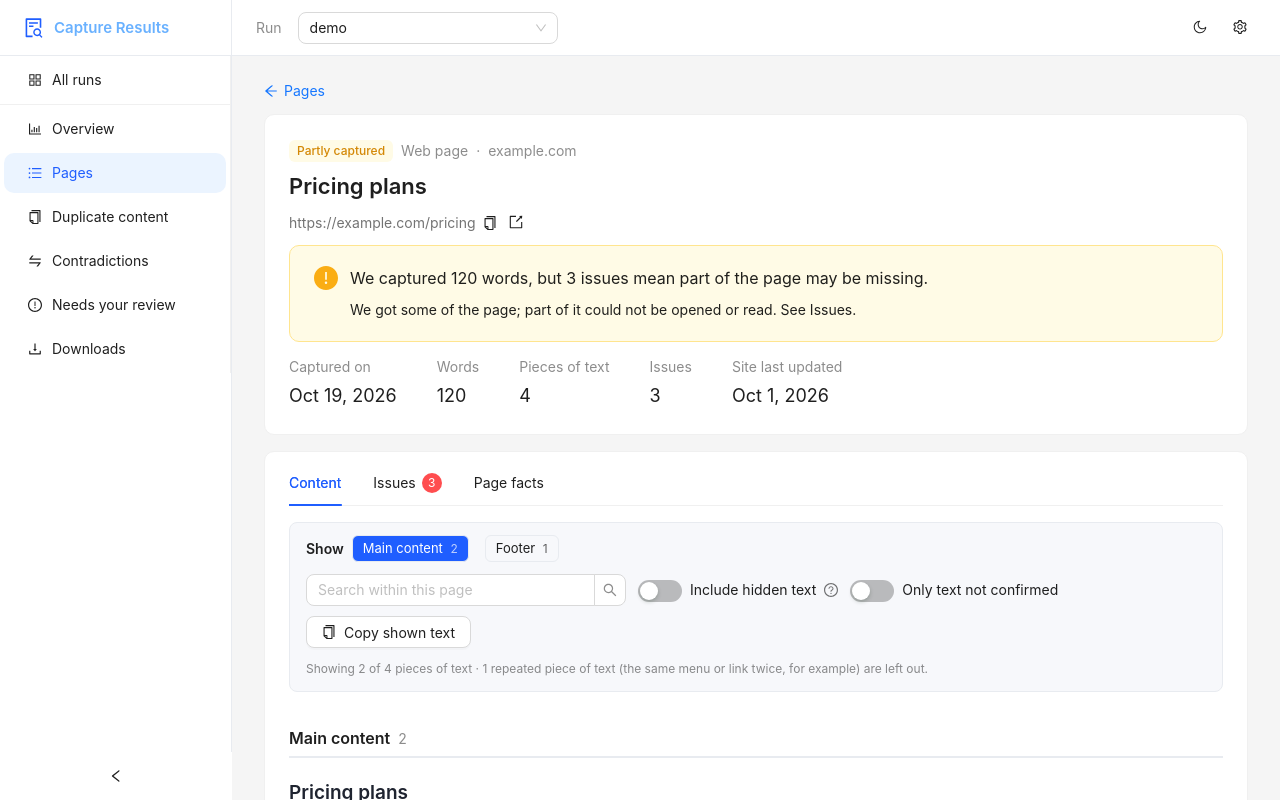
Test: page detail › switches tabs and keeps the tab in the URL
This screenshot has width=1280, height=800.
Expected: the heading "Pricing plans" is shown, [289,173,427,199]
What coordinates should you click on to do the following:
click the tab "Page facts"
I would click on:
 (509, 483)
Its box is [474,472,544,494].
(page scrolled)
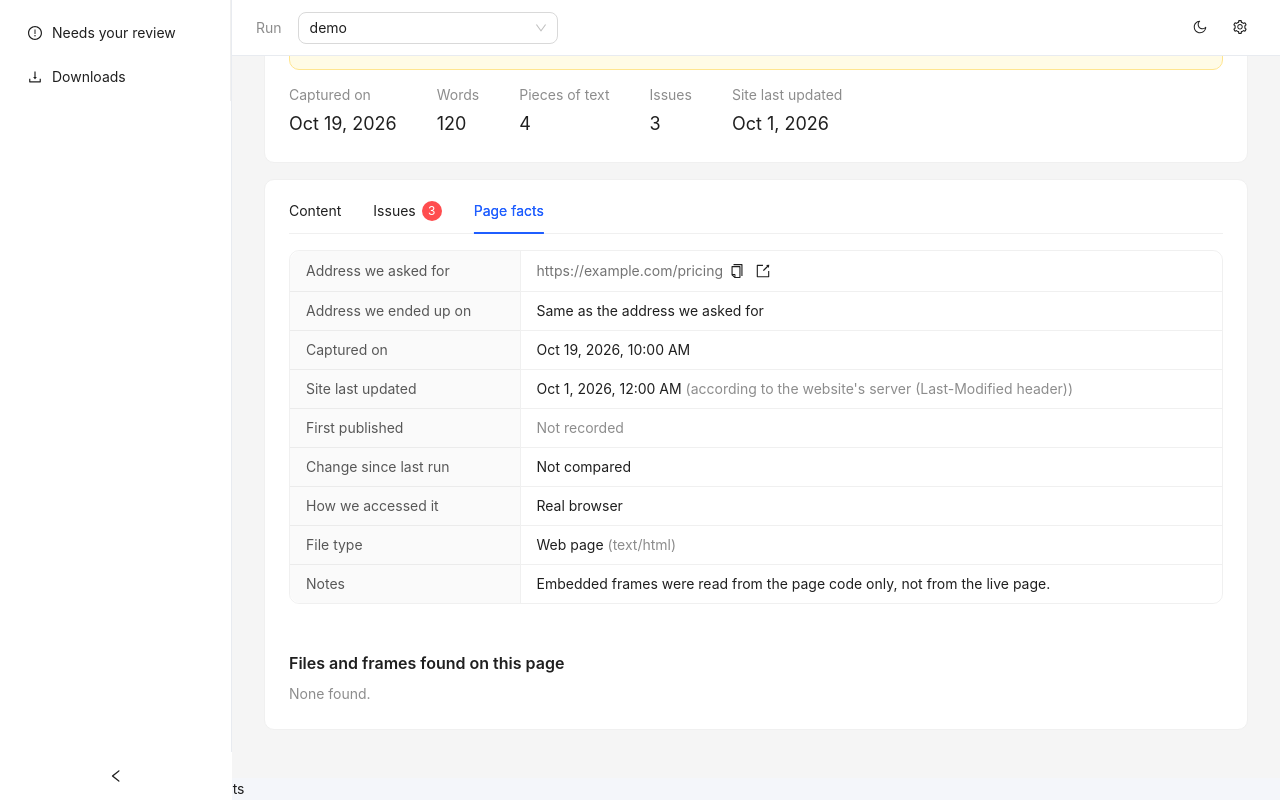
Expected: the text "Real browser" is shown, [536,497,623,514]
Expected: the list item "Embedded frames were read from the page code only" is shown, [536,575,1050,592]
Expected: the text with test id "location" shows "tab=facts", [0,780,244,797]
